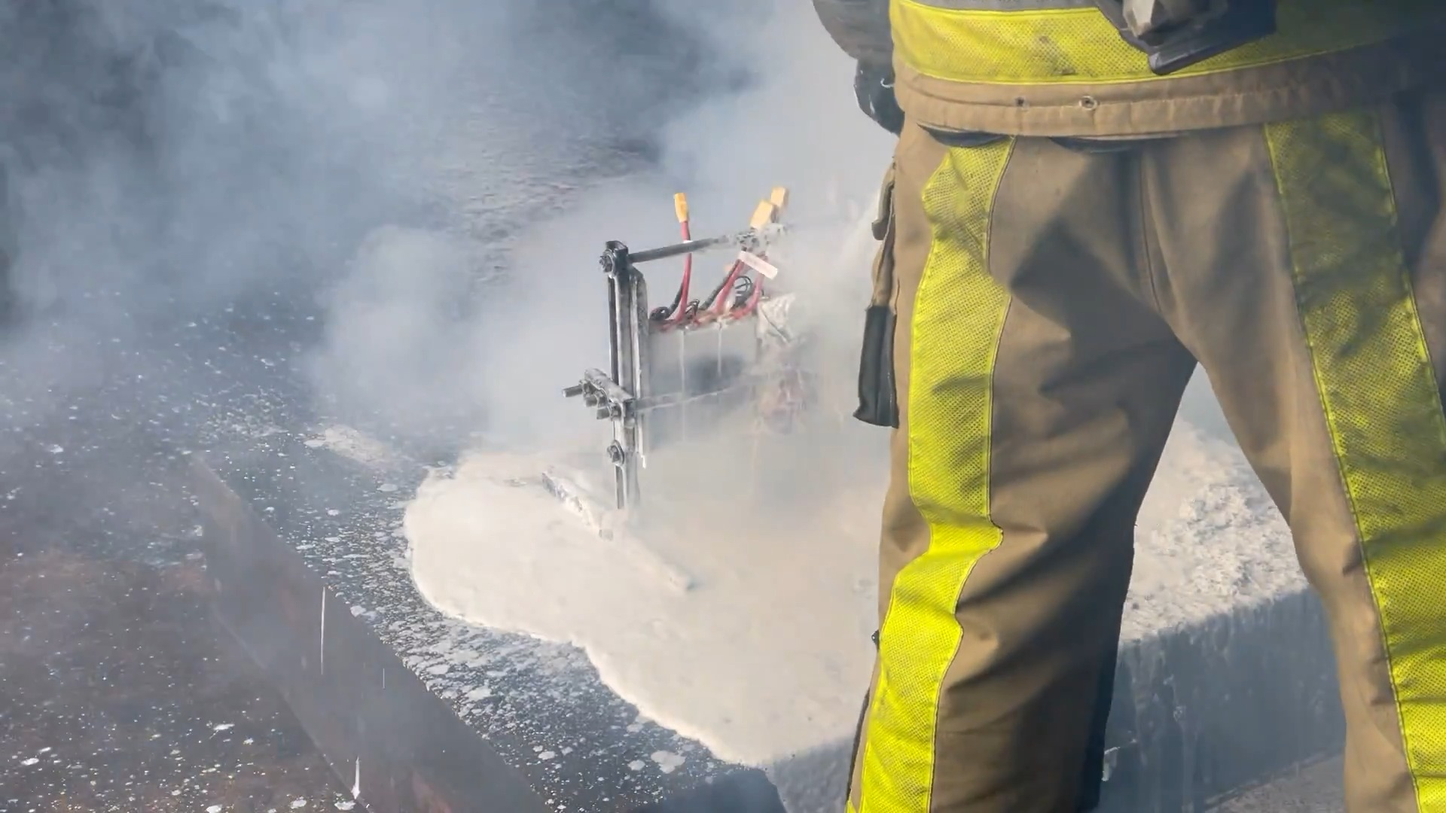smoke: (2, 2, 856, 443)
